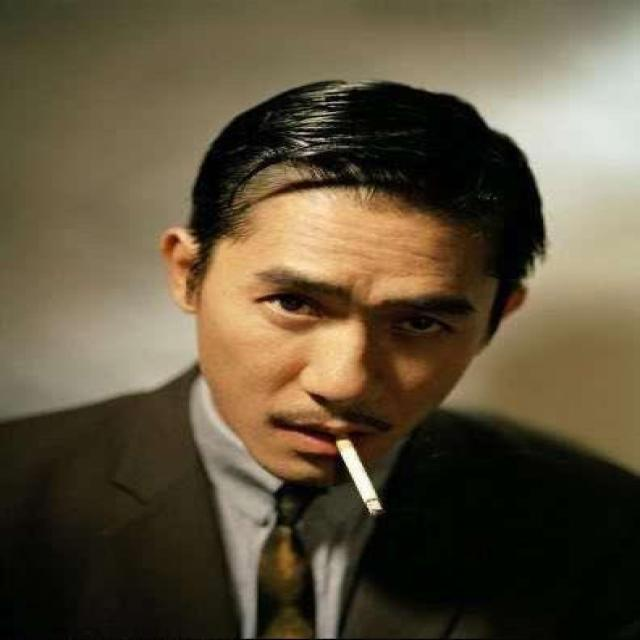rokok: (335, 428, 389, 518)
